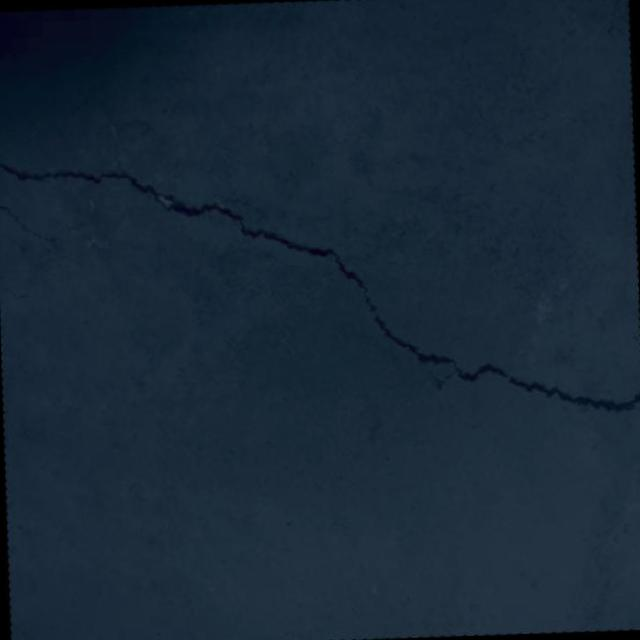crack: (0, 139, 640, 432), (0, 192, 91, 245), (0, 250, 89, 303)
